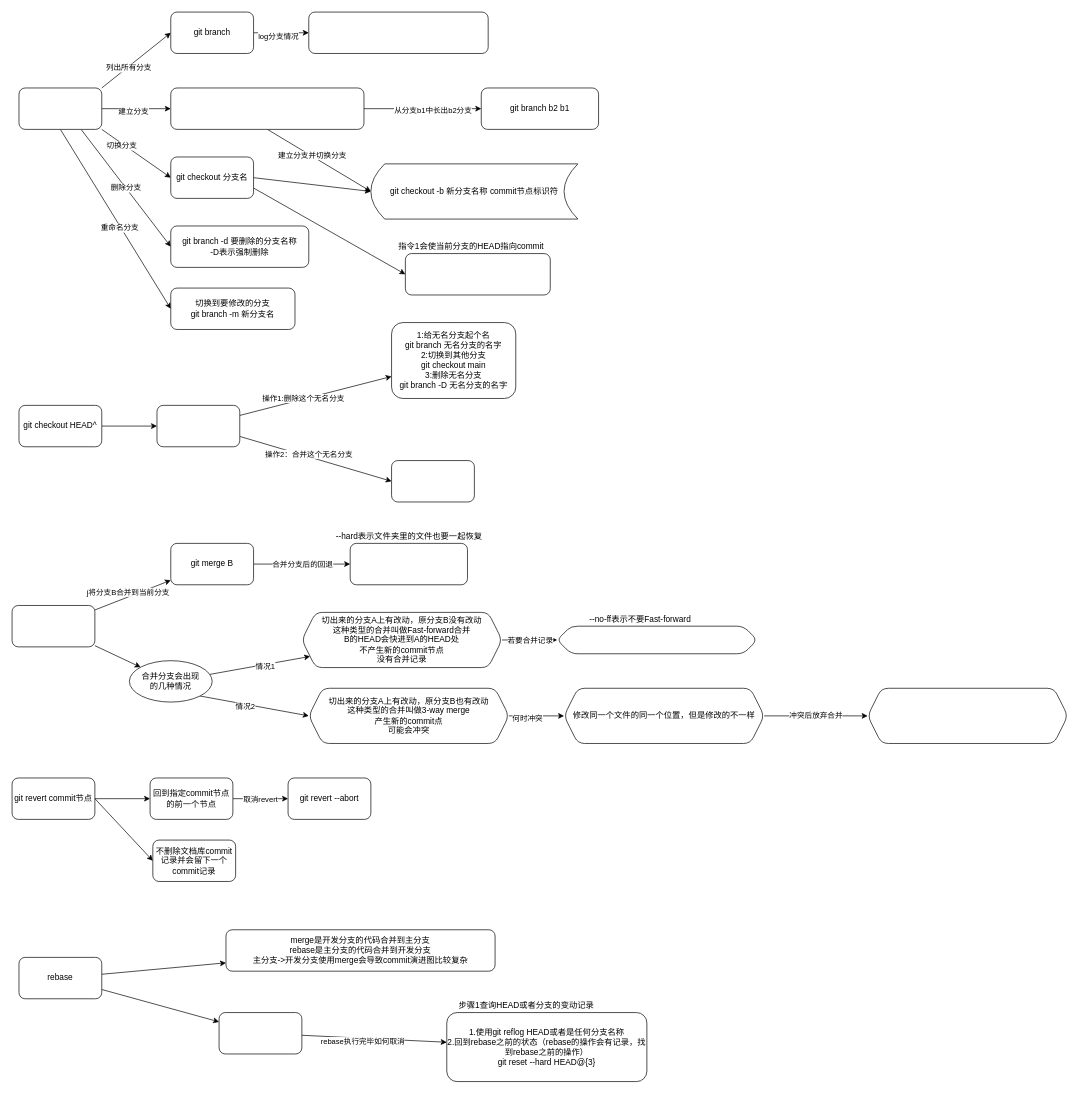
Image size: 1080x1094. Some labels were removed from this diagram. The centre of each missing label's shape, as x and y in pixels:
"git branch 自己取的分支名称 commit 节点标识符" belongs at point (267, 108).
"git checkout commit节点 git checkout commit节点 ." belongs at point (477, 274).
"git log --graph --oneline --all --decorate" belongs at point (398, 32).
"git merge --abort" belongs at point (967, 715).
"git merge --no-ff 分支名称" belongs at point (656, 639).
"git reset --hard HEAD^" belongs at point (408, 564).
"分支" belongs at point (60, 108).
"合并分支" belongs at point (53, 626).
"基本操作同merge" belongs at point (260, 1033).
"这个操作会创建一个无名分支，起点是HEAD的上一次提交" belongs at point (198, 426).
